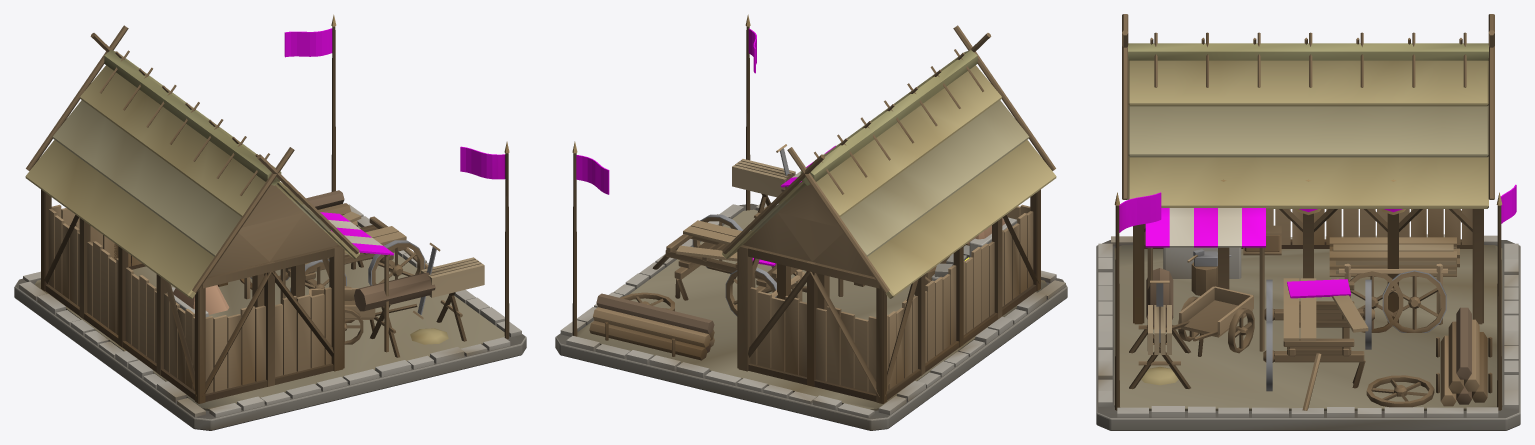
Rendered from factory_antiquity.glb.
3 renders of one model, left to right at view 1: azimuth 30°, elevation 25°; view 2: azimuth 150°, elevation 25°; view 3: azimuth 270°, elevation 25°, orthographic. The views are drawn at different scales.
Parts seen in each view (by area): view 1: Body; view 2: Body; view 3: Body.
Boxes of the visible parts, x1,y1,x2,y2 form: Body: (14, 14, 526, 430); Body: (555, 14, 1067, 430); Body: (1096, 14, 1520, 430).
Bounding box in the file's own units: 6 × 4.33 × 6.
1 material, 1 textured.
